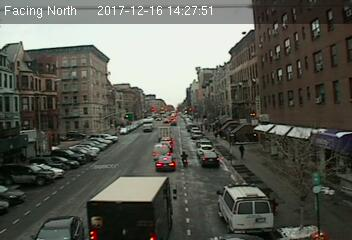bicycle: (178, 150, 188, 167)
car: (200, 151, 221, 167), (152, 144, 170, 161), (155, 155, 174, 170)
police: (216, 181, 276, 231)
ups: (87, 175, 175, 240)
